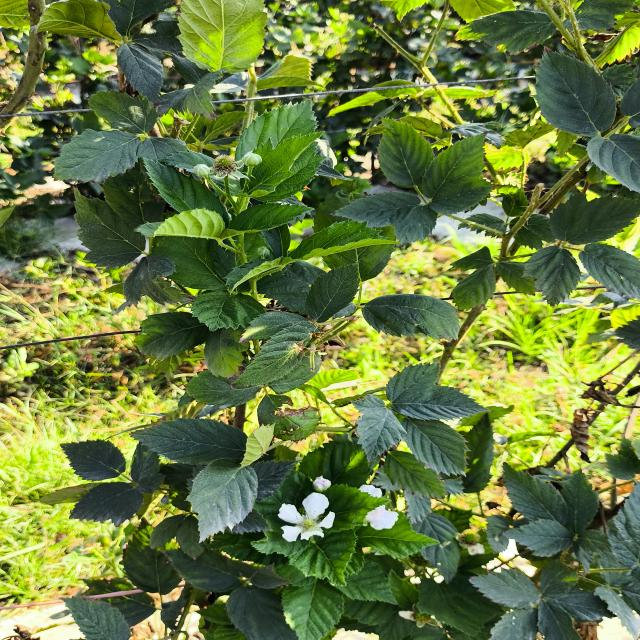boton: (241, 152, 262, 167), (313, 476, 331, 492), (193, 164, 211, 177)
flor: (278, 493, 335, 542), (364, 506, 399, 530)
